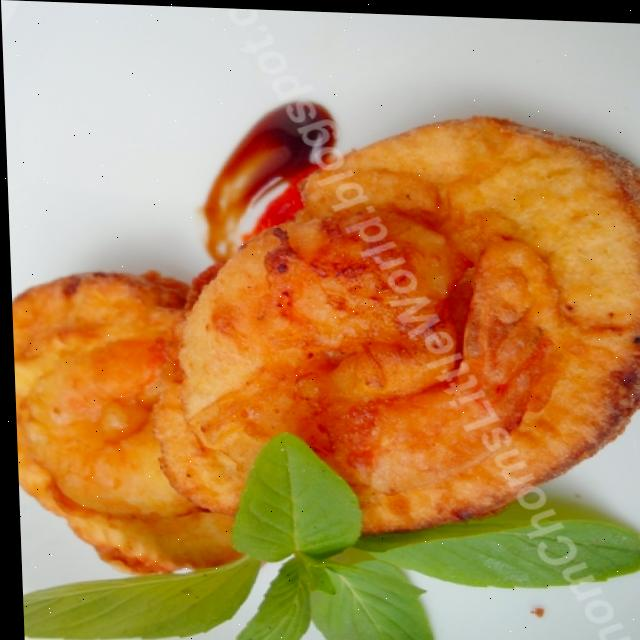炸货点心: (0, 4, 640, 626)
熟制海鲜: (0, 4, 640, 626)
